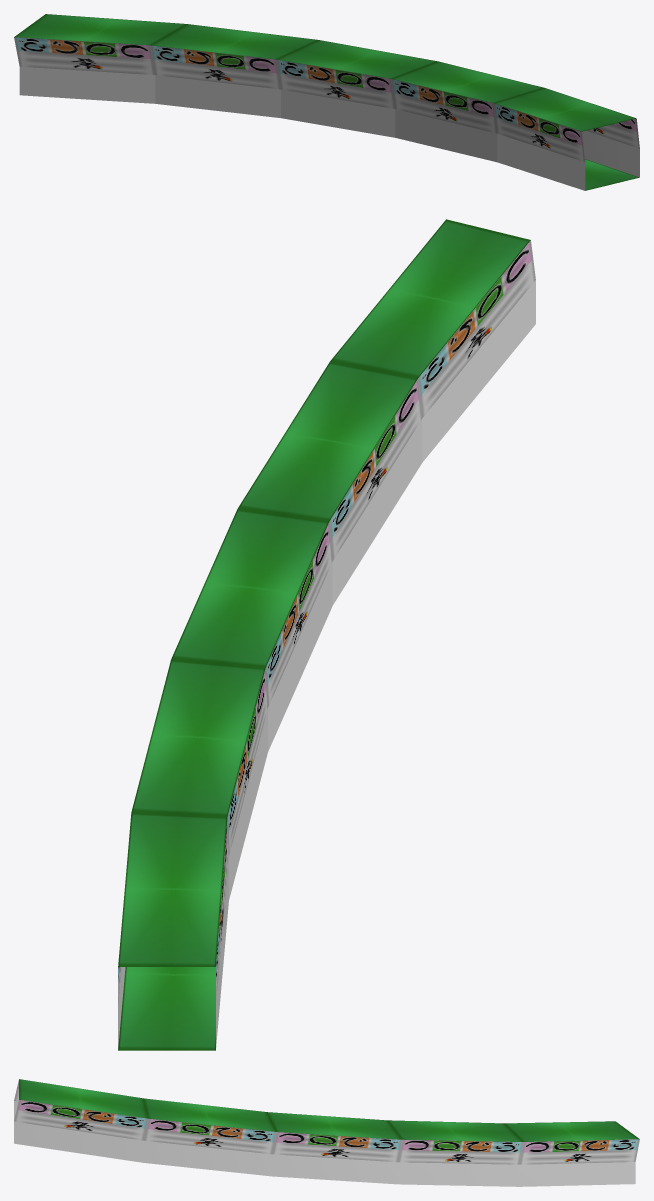
The model's file is CourseSpring_Box_Wall_R_2.fbx.
3 renders of one model, top to bottom at view 1: azimuth 30°, elevation 25°; view 2: azimuth 150°, elevation 25°; view 3: azimuth 270°, elevation 25°, orthographic. The views are drawn at different scales.
Parts seen in each view (by area): view 1: polySurface26; view 2: polySurface26; view 3: polySurface26.
Part boxes in pixels (bbox=[...]): polySurface26: bbox=[14, 14, 639, 190]; polySurface26: bbox=[118, 219, 535, 1050]; polySurface26: bbox=[14, 1079, 639, 1186].
Bounding box in the file's own units: 8.64 × 6.98 × 25.59.
1 material, 1 textured.
